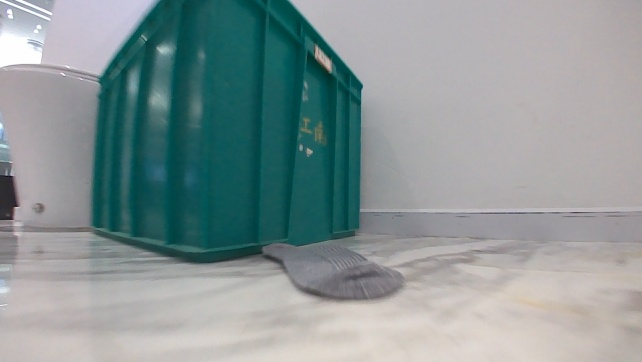socks: (259, 241, 406, 303)
toilet: (0, 60, 103, 231)
